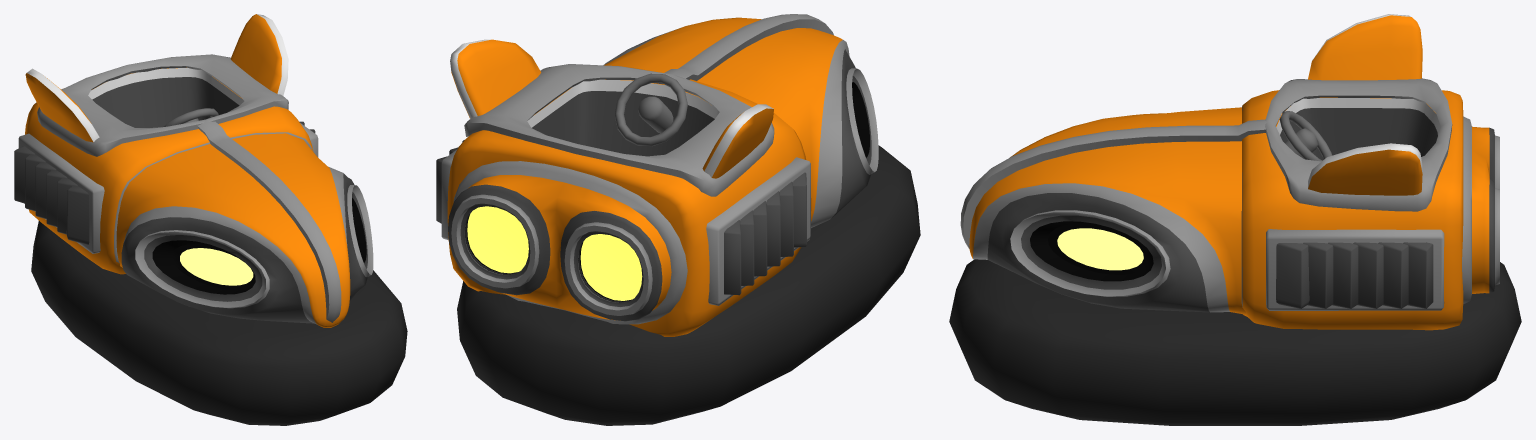
File: mesh_Car_InGame_E.fbx
3 renders of one model, left to right at view 1: azimuth 30°, elevation 25°; view 2: azimuth 150°, elevation 25°; view 3: azimuth 270°, elevation 25°, orthographic. The views are drawn at different scales.
Visible parts, largest first — view 1: mesh_Car_InGame_E; view 2: mesh_Car_InGame_E; view 3: mesh_Car_InGame_E.
Boxes of the visible parts, x1,y1,x2,y2 form: mesh_Car_InGame_E: (14, 14, 407, 425); mesh_Car_InGame_E: (436, 14, 920, 425); mesh_Car_InGame_E: (949, 14, 1521, 425).
Bounding box in the file's own units: 1.77 × 1.7 × 2.97.
